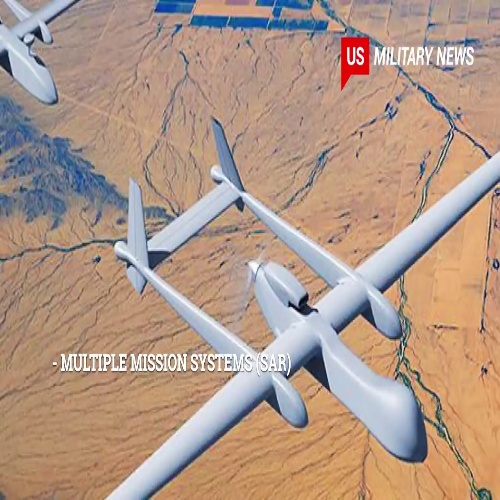uav694: (88, 112, 500, 499), (1, 1, 79, 110)
